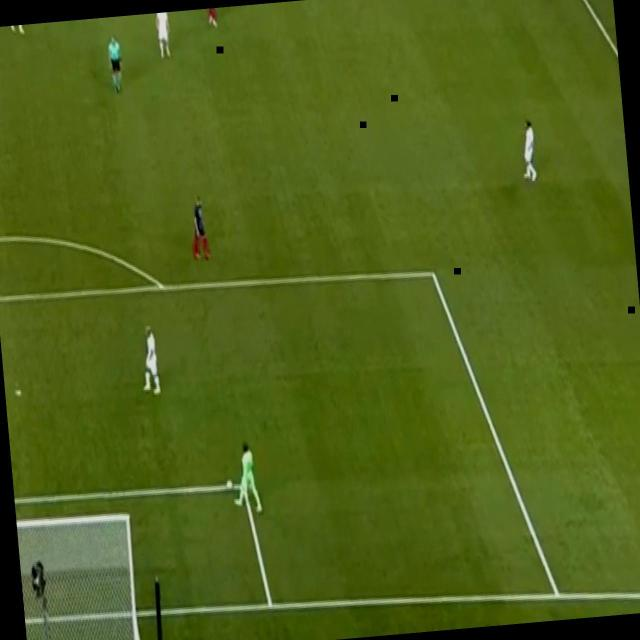ball: (223, 476, 234, 492)
player-white: (228, 436, 265, 520), (135, 319, 165, 399), (187, 192, 215, 264), (516, 114, 542, 184), (104, 32, 128, 99), (153, 12, 176, 62), (204, 7, 222, 29), (10, 24, 30, 38)
